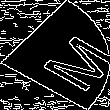M_NW: (7, 21, 103, 89)
